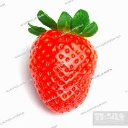strawberry: (29, 12, 97, 113)
